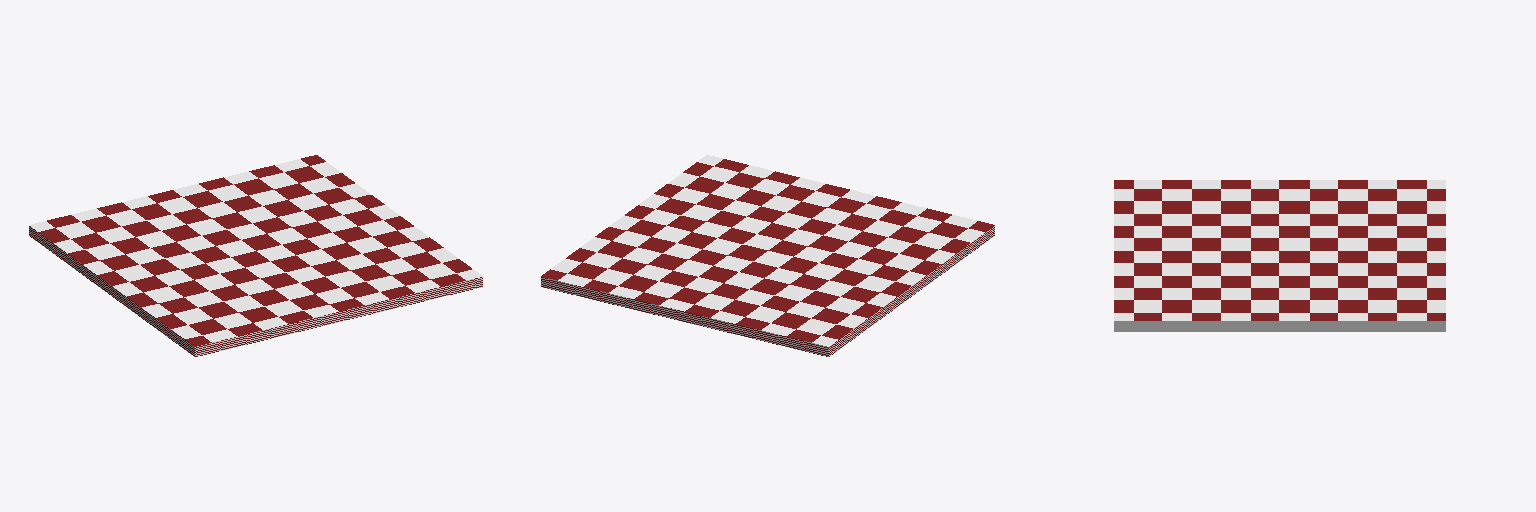
3 renders of one model, left to right at view 1: azimuth 30°, elevation 25°; view 2: azimuth 150°, elevation 25°; view 3: azimuth 270°, elevation 25°, orthographic.
Visible parts, largest first — view 1: Cube.001; view 2: Cube.001; view 3: Cube.001.
Part boxes in pixels (x1,y1,x2,y2): Cube.001: (29,155,482,356); Cube.001: (541,155,994,356); Cube.001: (1114,180,1445,331).
Size of the model in its own units: 58 by 2 by 58.
Materials: 2 (1 with a texture image).